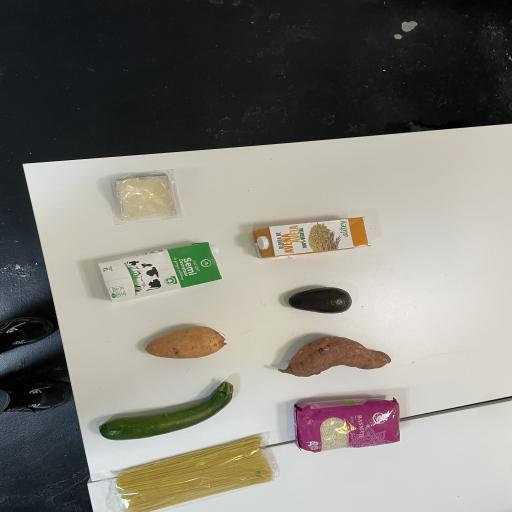avocado: (276, 275, 366, 327)
courgette: (88, 370, 258, 452)
cured_goat_cheese: (89, 148, 195, 232)
milk: (58, 228, 233, 310)
oat_milk: (238, 205, 394, 271)
rice: (266, 381, 421, 461)
spaghetti: (101, 437, 287, 509)
sweet_potato: (265, 317, 405, 388), (115, 313, 233, 361)
